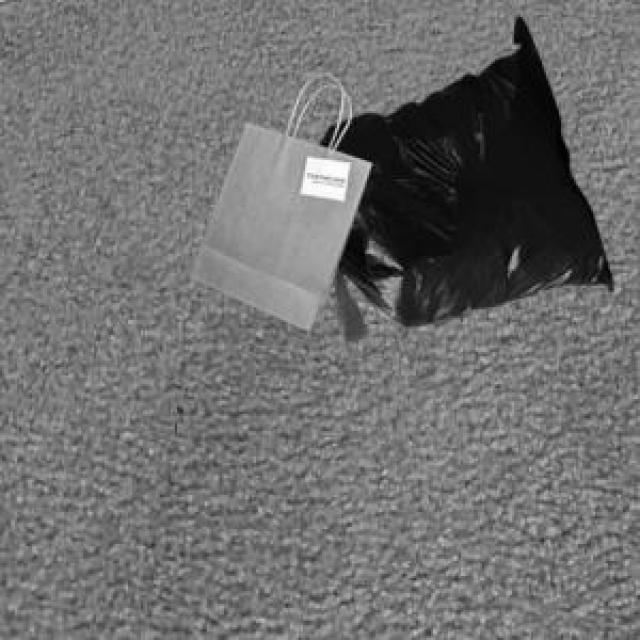miscellaneous trash: (316, 13, 608, 339)
paper: (186, 120, 367, 326)
